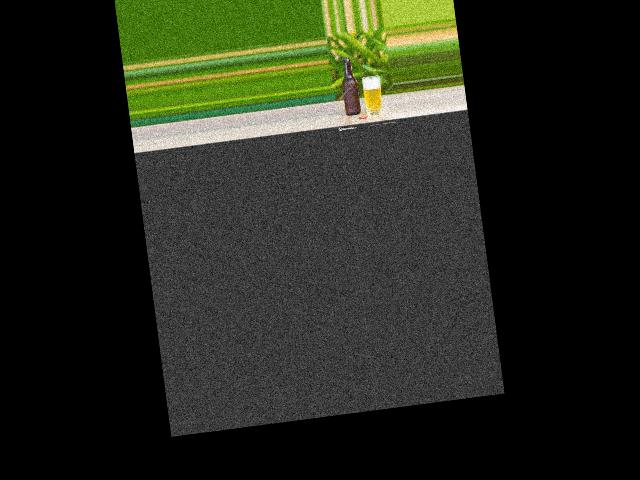beer: (339, 56, 361, 116)
